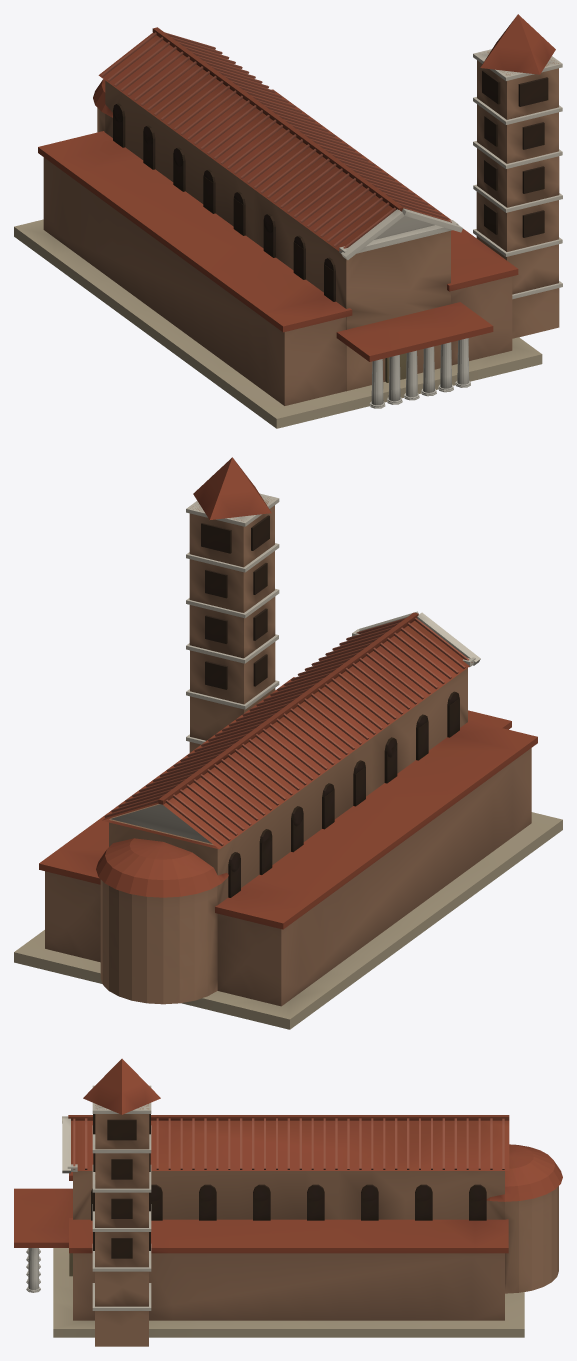
The model's file is tiber-island-church.glb.
3 renders of one model, top to bottom at view 1: azimuth 30°, elevation 25°; view 2: azimuth 150°, elevation 25°; view 3: azimuth 270°, elevation 25°, orthographic. The views are drawn at different scales.
Visible parts, largest first — view 1: p2_campanile, p1_porch, p0_base; view 2: p2_campanile, p1_porch, p0_base; view 3: p2_campanile, p1_porch, p0_base.
Part boxes in pixels (bbox=[...]): p2_campanile: bbox=[38, 14, 562, 361]; p1_porch: bbox=[43, 80, 512, 408]; p0_base: bbox=[14, 219, 542, 428]; p2_campanile: bbox=[39, 457, 537, 929]; p1_porch: bbox=[45, 668, 531, 1006]; p0_base: bbox=[14, 812, 562, 1029]; p2_campanile: bbox=[14, 1058, 562, 1346]; p1_porch: bbox=[26, 1171, 558, 1320]; p0_base: bbox=[53, 1248, 524, 1337].
Bounding box in the file's own units: 33.5 × 32.1 × 55.92.
